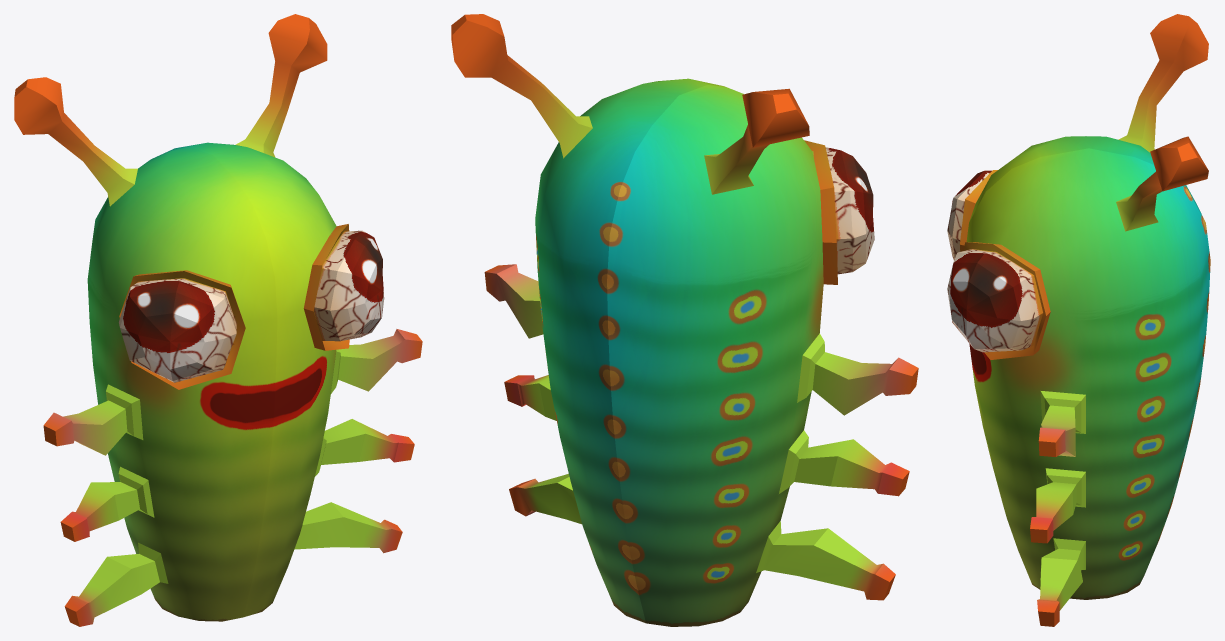
File: worm.fbx
The picture shows the model from 3 angles, left to right: view 1: azimuth 30°, elevation 25°; view 2: azimuth 150°, elevation 25°; view 3: azimuth 270°, elevation 25°; orthographic projection. The views are drawn at different scales.
Visible parts, largest first — view 1: polySurface2; view 2: polySurface2; view 3: polySurface2.
Boxes of the visible parts, x1,y1,x2,y2 form: polySurface2: [14, 14, 422, 626]; polySurface2: [451, 14, 918, 626]; polySurface2: [947, 14, 1210, 626].
Size of the model in its own units: 8.71 by 11.38 by 5.48.
1 material, 1 textured.
